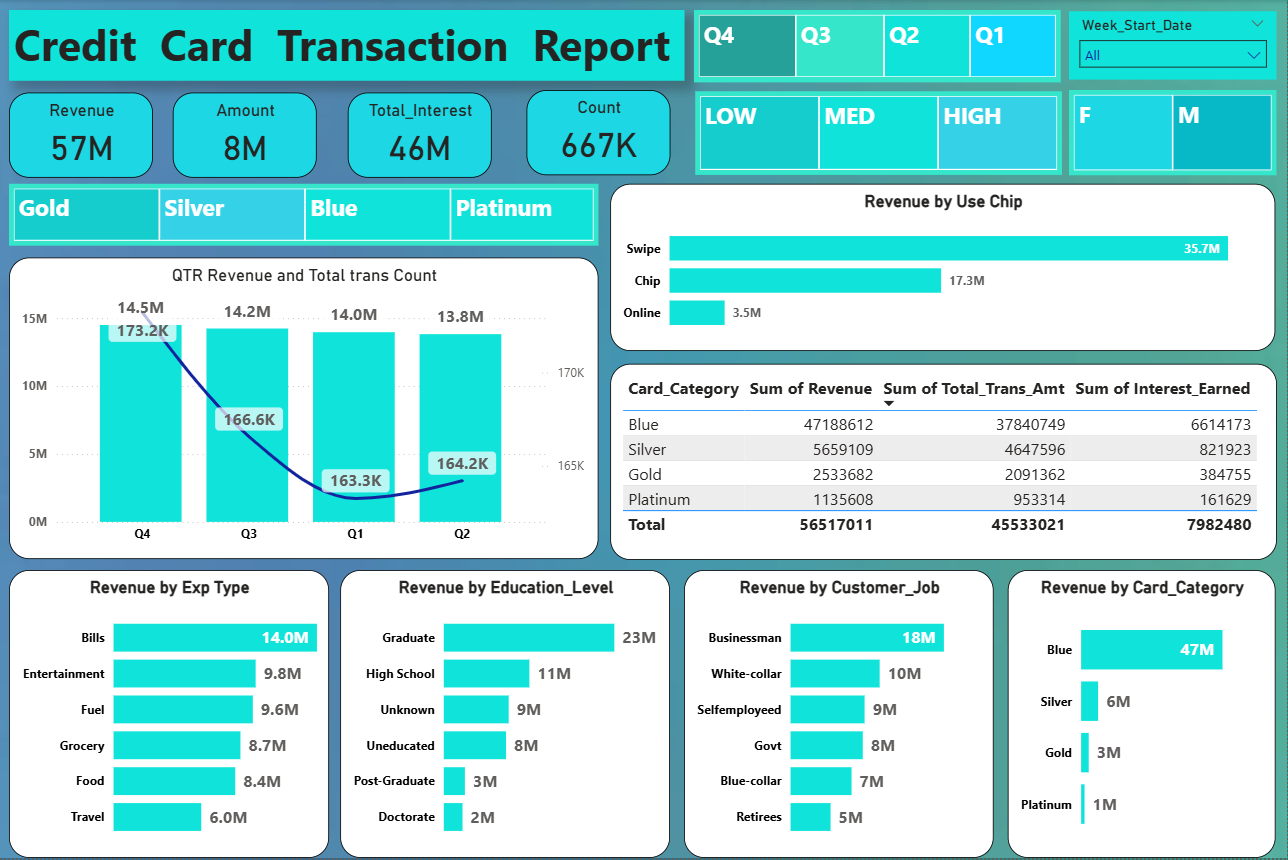

The dashboard page shown, as its layout file describes it:
{"tool":"powerbi","page":{"name":"CC_Transaction_Dashboard","canvas":[1281,854],"ordinal":1},"visuals":[{"type":"textbox","box":[10,10,671.7,70],"z":0},{"type":"barChart","title":"Revenue by Exp Type","fields":{"Y":["Sum(ccdb cc_detail.Revenue)"],"Category":["ccdb cc_detail.Exp Type"]},"box":[10,566.7,318.3,286.7],"z":1000},{"type":"lineStackedColumnComboChart","title":"QTR Revenue and Total trans Count","fields":{"Category":["ccdb cc_detail.Qtr"],"Y":["Sum(ccdb cc_detail.Revenue)"],"Y2":["Sum(ccdb cc_detail.Total_Trans_Vol)"]},"box":[10,256.7,586.7,300],"z":2000},{"type":"barChart","title":"Revenue by Education_Level","fields":{"Category":["ccdb cust_detail.Education_Level"],"Y":["Sum(ccdb cc_detail.Revenue)"]},"box":[340,566.7,328.3,286.7],"z":3000},{"type":"barChart","title":"Revenue by Customer_Job","fields":{"Category":["ccdb cust_detail.Customer_Job"],"Y":["Sum(ccdb cc_detail.Revenue)"]},"box":[681.7,566.7,308.3,286.7],"z":4000},{"type":"barChart","title":"Revenue by Card_Category","fields":{"Y":["Sum(ccdb cc_detail.Revenue)"],"Category":["ccdb cc_detail.Card_Category"]},"box":[1003.3,566.7,266.7,286.7],"z":5000},{"type":"barChart","title":"Revenue by Use Chip","fields":{"Category":["ccdb cc_detail.Use Chip"],"Y":["Sum(ccdb cc_detail.Revenue)"]},"box":[608.3,183.3,661.7,166.7],"z":6000},{"type":"tableEx","fields":{"Values":["ccdb cc_detail.Card_Category","Sum(ccdb cc_detail.Revenue)","Sum(ccdb cc_detail.Total_Trans_Amt)","Sum(ccdb cc_detail.Interest_Earned)"]},"box":[608.3,361.7,663.3,195],"z":7000},{"type":"card","title":"Revenue","fields":{"Values":["Sum(ccdb cc_detail.Revenue)"]},"box":[10,91.7,143.3,85],"z":8000},{"type":"card","title":"Total_Interest","fields":{"Values":["Sum(ccdb cc_detail.Total_Trans_Amt)"]},"box":[346.7,91.7,143.3,85],"z":9000},{"type":"card","title":"Amount","fields":{"Values":["Sum(ccdb cc_detail.Interest_Earned)"]},"box":[173.3,91.7,143.3,85],"z":10000},{"type":"card","title":"Count","fields":{"Values":["Sum(ccdb cc_detail.Total_Trans_Vol)"]},"box":[525,90,143.3,85],"z":11000},{"type":"slicer","fields":{"Values":["ccdb cc_detail.Week_Start_Date"]},"box":[1065,11.7,206.7,68.3],"z":12000},{"type":"treemap","fields":{"Group":["ccdb cc_detail.Qtr"],"Values":["Avg(ccdb cc_detail.ï»¿Client_Num)"]},"box":[691.7,10,365,71.7],"z":13000},{"type":"treemap","fields":{"Group":["ccdb cust_detail.Gender"],"Values":["Avg(ccdb cc_detail.ï»¿Client_Num)"]},"box":[1065,90,206.7,85],"z":14000},{"type":"treemap","fields":{"Values":["Avg(ccdb cc_detail.ï»¿Client_Num)"],"Group":["ccdb cc_detail.Card_Category"]},"box":[10,183.3,586.7,61.7],"z":15000},{"type":"treemap","fields":{"Values":["Avg(ccdb cc_detail.ï»¿Client_Num)"],"Group":["ccdb cust_detail.IncomeGroup"]},"box":[692.1,91.3,365.1,83.1],"z":16000}]}

Visuals, with their boxes in screenshot pixels (x1, y1, x2, y2), scaled from the page's 1281x854 canvas onto the 1288x860 screenshot:
textbox: box(10, 10, 685, 81)
"Revenue by Exp Type" barChart: box(10, 571, 330, 859)
"QTR Revenue and Total trans Count" lineStackedColumnComboChart: box(10, 259, 600, 561)
"Revenue by Education_Level" barChart: box(342, 571, 672, 859)
"Revenue by Customer_Job" barChart: box(685, 571, 995, 859)
"Revenue by Card_Category" barChart: box(1009, 571, 1277, 859)
"Revenue by Use Chip" barChart: box(612, 185, 1277, 352)
tableEx - ccdb cc_detail.Card_Category x Sum(ccdb cc_detail.Revenue): box(612, 364, 1279, 561)
"Revenue" card: box(10, 92, 154, 178)
"Total_Interest" card: box(349, 92, 493, 178)
"Amount" card: box(174, 92, 318, 178)
"Count" card: box(528, 91, 672, 176)
slicer - ccdb cc_detail.Week_Start_Date: box(1071, 12, 1279, 81)
treemap - ccdb cc_detail.Qtr x Avg(ccdb cc_detail.ï»¿Client_Num): box(695, 10, 1062, 82)
treemap - ccdb cust_detail.Gender x Avg(ccdb cc_detail.ï»¿Client_Num): box(1071, 91, 1279, 176)
treemap - Avg(ccdb cc_detail.ï»¿Client_Num) x ccdb cc_detail.Card_Category: box(10, 185, 600, 247)
treemap - Avg(ccdb cc_detail.ï»¿Client_Num) x ccdb cust_detail.IncomeGroup: box(696, 92, 1063, 176)
